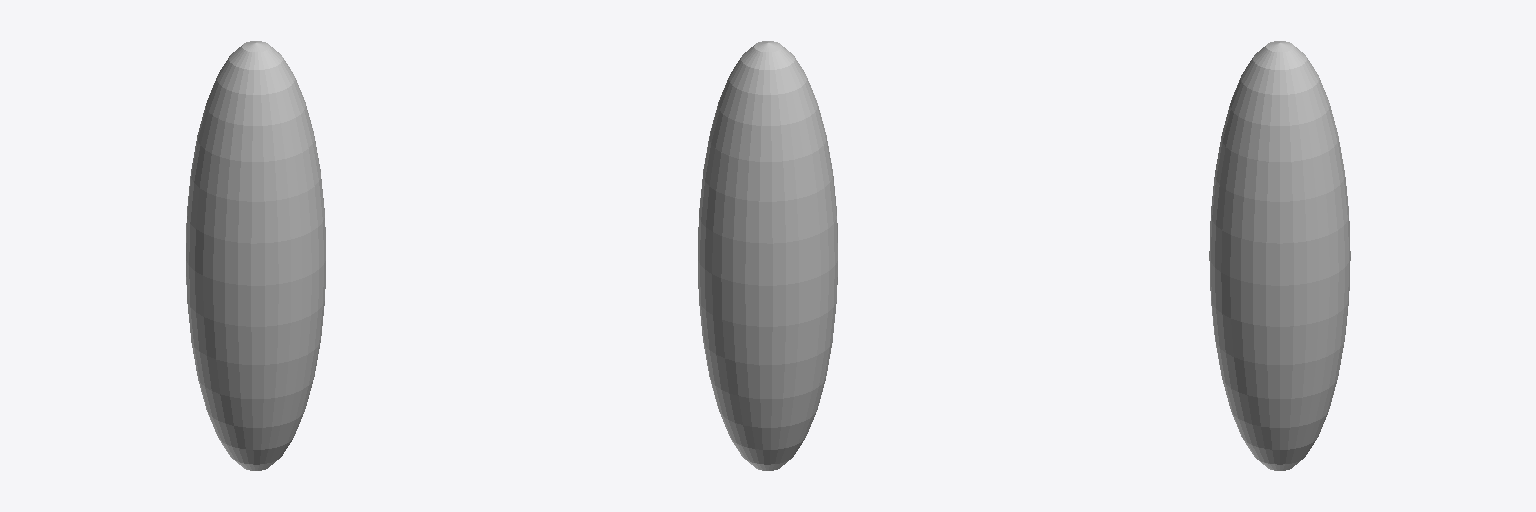
Rendered from lampglass.obj.
3 renders of one model, left to right at view 1: azimuth 30°, elevation 25°; view 2: azimuth 150°, elevation 25°; view 3: azimuth 270°, elevation 25°, orthographic.
Visible parts, largest first — view 1: Sphere.001; view 2: Sphere.001; view 3: Sphere.001.
Part boxes in pixels (x1,y1,x2,y2): Sphere.001: (186, 41, 325, 470); Sphere.001: (698, 41, 837, 470); Sphere.001: (1209, 41, 1350, 470).
Size of the model in its own units: 0.6 by 2 by 0.6.